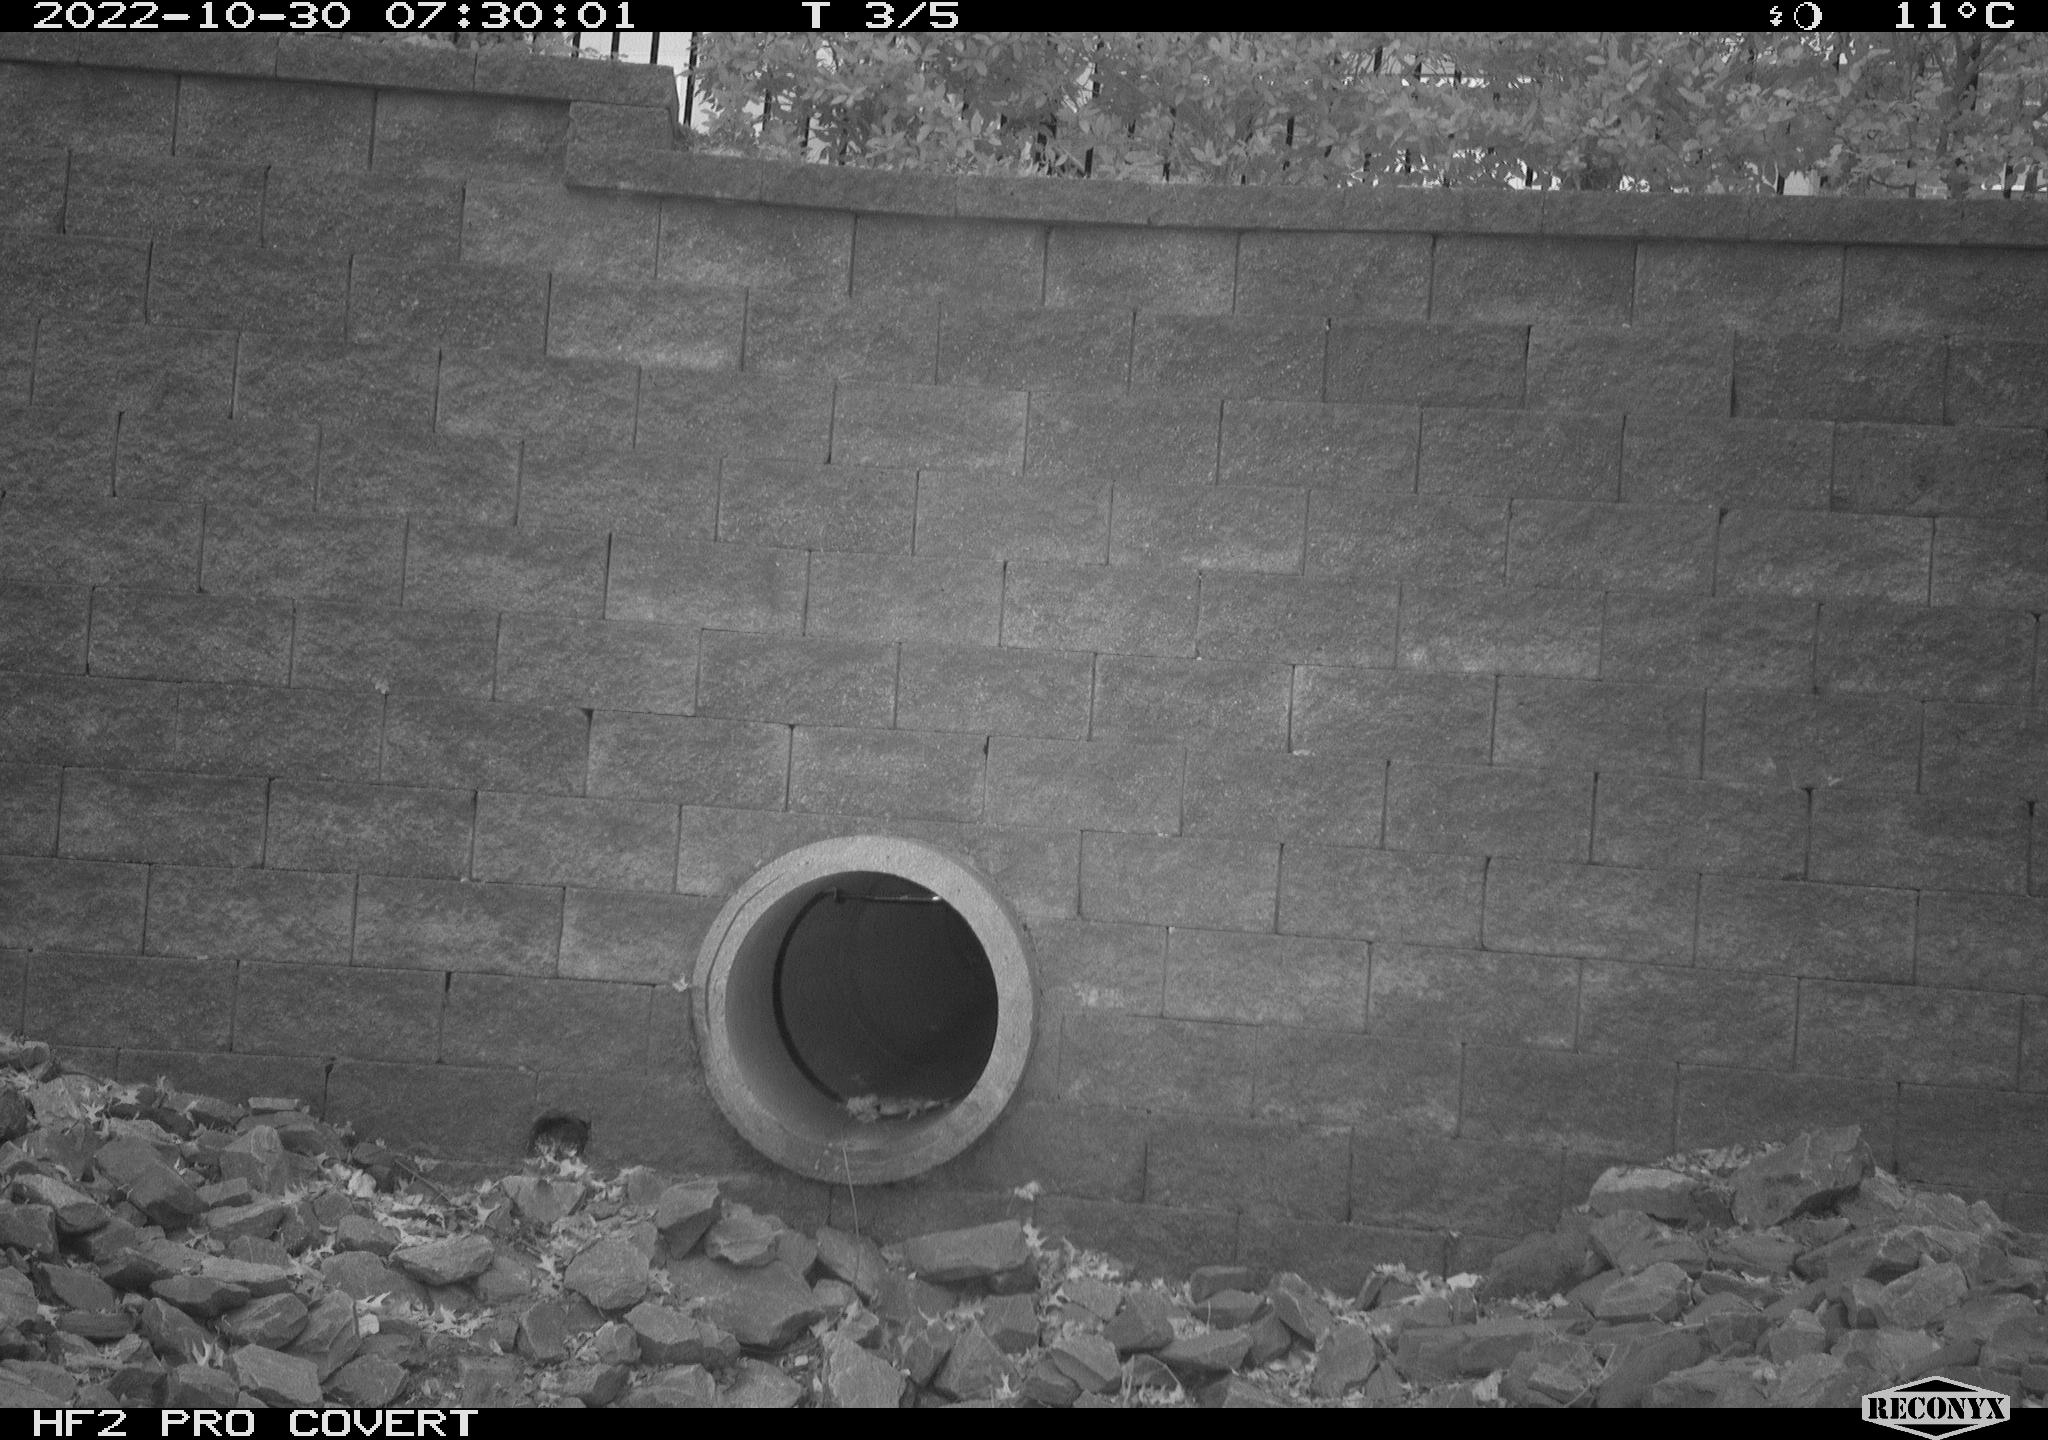Empty Outlet: (726, 871, 998, 1149)
